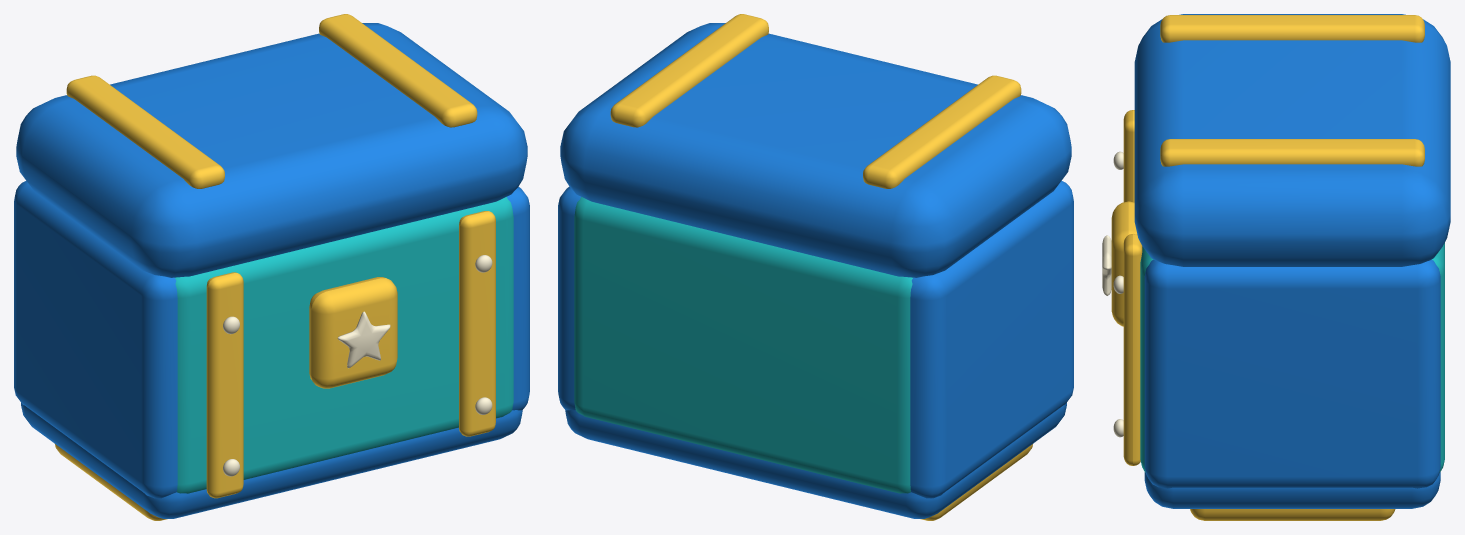
The model's file is treasure-chest.glb.
3 views of the same model, side by side, from view 1: azimuth 30°, elevation 25°; view 2: azimuth 150°, elevation 25°; view 3: azimuth 270°, elevation 25° (orthographic).
Parts seen in each view (by area): view 1: Domed lid, Chest wall, Side wall, Chest floor, Front brass strap, Front brass strap.001, Front clasp, Lid brass strap, Lid brass strap.001, Side wall.001, Clasp emblem, Chest foot; view 2: Domed lid, Chest wall.001, Side wall, Chest floor, Lid brass strap, Lid brass strap.001, Side wall.001, Chest foot; view 3: Side wall.001, Domed lid, Lid brass strap, Lid brass strap.001, Chest floor, Front brass strap.001, Chest foot.001, Front clasp, Chest wall.001, Chest wall, Front brass strap, Clasp emblem.
Part boxes in pixels (bbox=[...]): Domed lid: bbox=[16, 23, 527, 277]; Chest wall: bbox=[175, 197, 513, 493]; Side wall: bbox=[14, 180, 177, 498]; Chest floor: bbox=[21, 403, 522, 518]; Front brass strap: bbox=[206, 272, 243, 498]; Front brass strap.001: bbox=[459, 211, 495, 436]; Front clasp: bbox=[309, 277, 397, 388]; Lid brass strap: bbox=[66, 75, 224, 188]; Lid brass strap.001: bbox=[319, 14, 477, 127]; Side wall.001: bbox=[507, 186, 529, 410]; Clasp emblem: bbox=[337, 311, 390, 368]; Chest foot: bbox=[55, 444, 167, 520]; Domed lid: bbox=[560, 23, 1071, 277]; Chest wall.001: bbox=[574, 197, 912, 493]; Side wall: bbox=[910, 180, 1073, 498]; Chest floor: bbox=[565, 403, 1066, 518]; Lid brass strap: bbox=[863, 75, 1021, 188]; Lid brass strap.001: bbox=[610, 14, 768, 127]; Side wall.001: bbox=[558, 186, 580, 410]; Chest foot: bbox=[920, 444, 1032, 520]; Side wall.001: bbox=[1144, 259, 1440, 488]; Domed lid: bbox=[1134, 14, 1450, 266]; Lid brass strap: bbox=[1160, 15, 1424, 42]; Lid brass strap.001: bbox=[1160, 139, 1424, 166]; Chest floor: bbox=[1144, 472, 1440, 508]; Front brass strap.001: bbox=[1123, 234, 1142, 465]; Chest foot.001: bbox=[1190, 509, 1395, 520]; Front clasp: bbox=[1111, 201, 1137, 326]; Chest wall.001: bbox=[1432, 243, 1444, 472]; Chest wall: bbox=[1140, 246, 1153, 472]; Front brass strap: bbox=[1123, 110, 1134, 202]; Clasp emblem: bbox=[1102, 235, 1111, 295].
Bounding box in the file's own units: 1.58 × 1.38 × 1.21.
